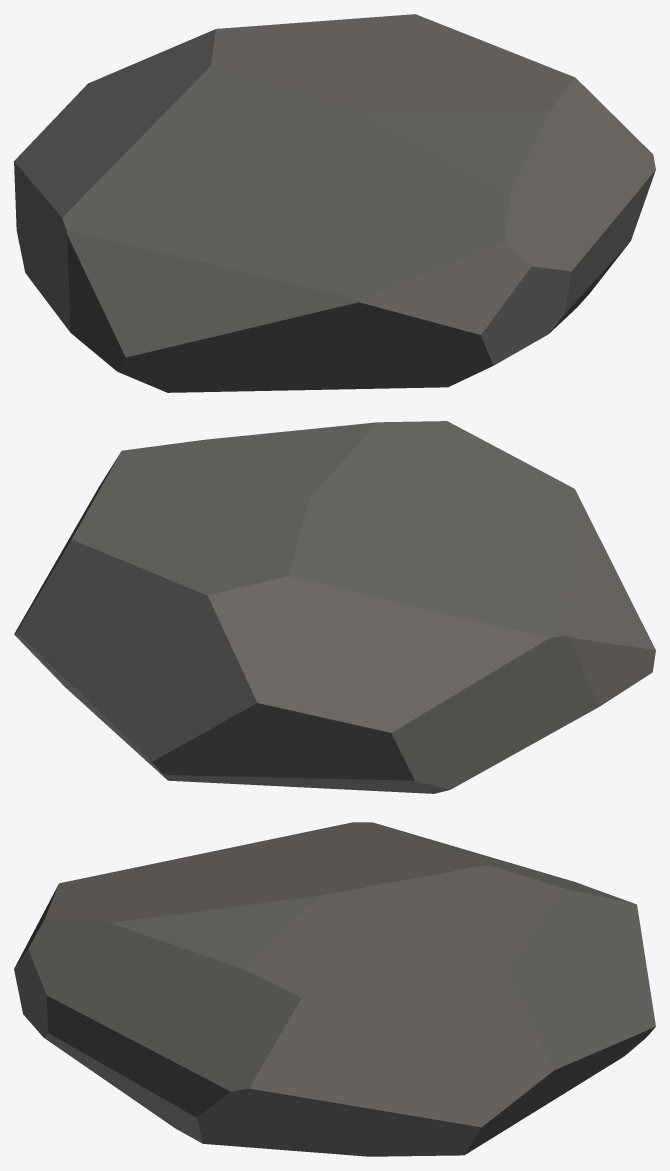
File: boulder3.fbx
The picture shows the model from 3 angles, top to bottom: view 1: azimuth 30°, elevation 25°; view 2: azimuth 150°, elevation 25°; view 3: azimuth 270°, elevation 25°; orthographic projection. The views are drawn at different scales.
Visible parts, largest first — view 1: Boulder3; view 2: Boulder3; view 3: Boulder3.
Boxes of the visible parts, left/top/right/bottom form: Boulder3: left=14, top=14, right=655, bottom=392; Boulder3: left=14, top=421, right=655, bottom=793; Boulder3: left=14, top=822, right=655, bottom=1156.
Bounding box in the file's own units: 1.34 × 0.4382 × 1.39.
